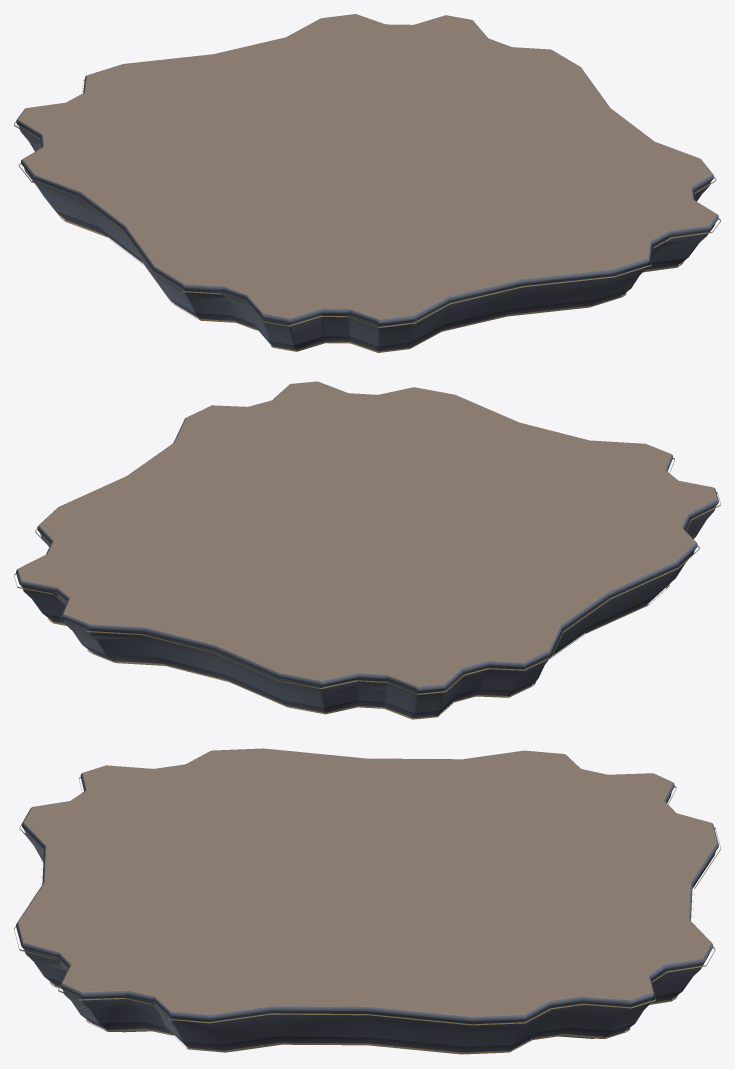
Rendered from chapter_terrace_2_1.glb.
3 renders of one model, top to bottom at view 1: azimuth 30°, elevation 25°; view 2: azimuth 150°, elevation 25°; view 3: azimuth 270°, elevation 25°, orthographic. The views are drawn at different scales.
Visible parts, largest first — view 1: Clockwork midnight fascia, Worn champagne bronze; view 2: Clockwork midnight fascia, Worn champagne bronze; view 3: Clockwork midnight fascia, Worn champagne bronze.
Boxes of the visible parts, left/top/right/bottom form: Clockwork midnight fascia: left=16, top=14, right=718, bottom=351; Worn champagne bronze: left=14, top=79, right=720, bottom=352; Clockwork midnight fascia: left=16, top=381, right=718, bottom=717; Worn champagne bronze: left=14, top=458, right=720, bottom=719; Clockwork midnight fascia: left=16, top=748, right=718, bottom=1052; Worn champagne bronze: left=14, top=777, right=720, bottom=1054.
Bounding box in the file's own units: 20.08 × 1.94 × 22.08.
